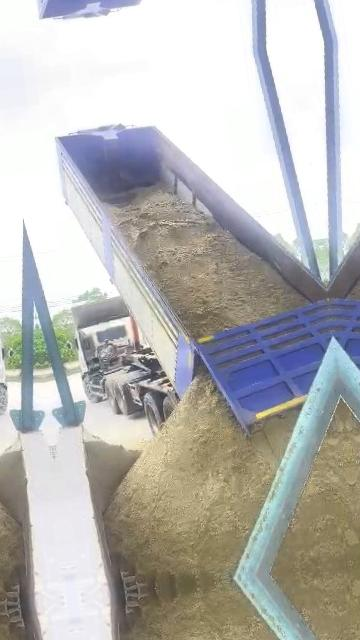sand: (105, 376, 298, 587), (110, 186, 307, 337), (273, 400, 360, 572), (84, 432, 140, 512)
